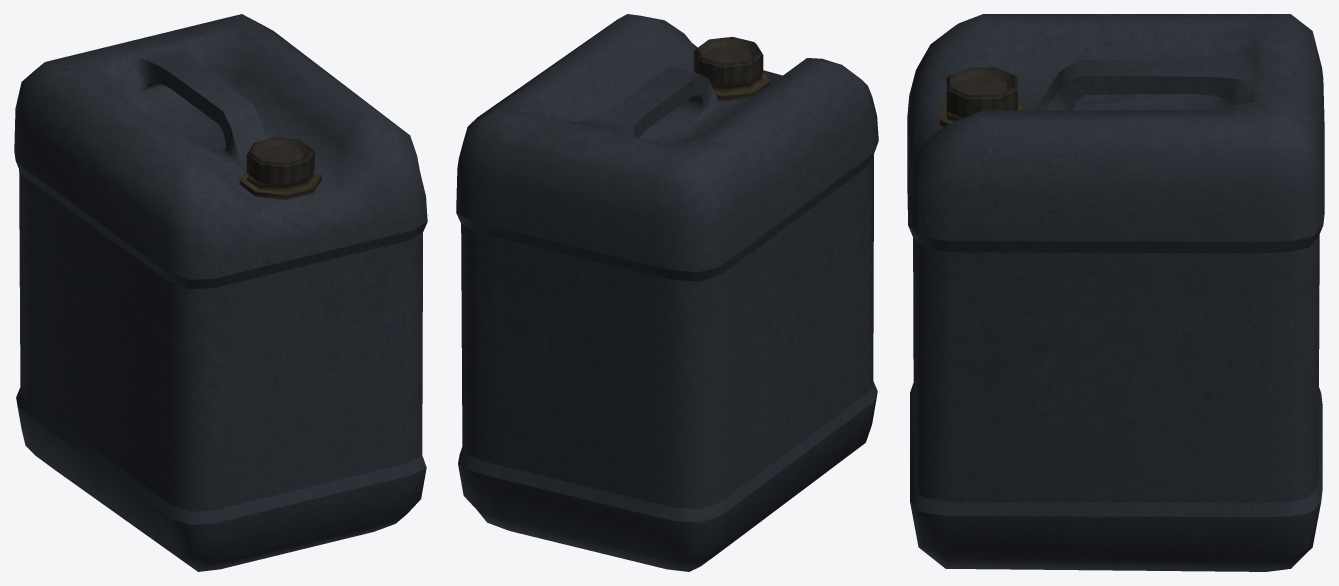
Rendered from jerrycan_1_1.glb.
3 views of the same model, side by side, from view 1: azimuth 30°, elevation 25°; view 2: azimuth 150°, elevation 25°; view 3: azimuth 270°, elevation 25° (orthographic). The views are drawn at different scales.
Parts seen in each view (by area): view 1: jerrycan_1_1; view 2: jerrycan_1_1; view 3: jerrycan_1_1.
Boxes of the visible parts, x1=… form: jerrycan_1_1: x1=14, y1=14, x2=427, y2=571; jerrycan_1_1: x1=456, y1=14, x2=878, y2=571; jerrycan_1_1: x1=907, y1=14, x2=1324, y2=571.
Bounding box in the file's own units: 0.3364 × 0.5025 × 0.4198.
1 material, 1 textured.
